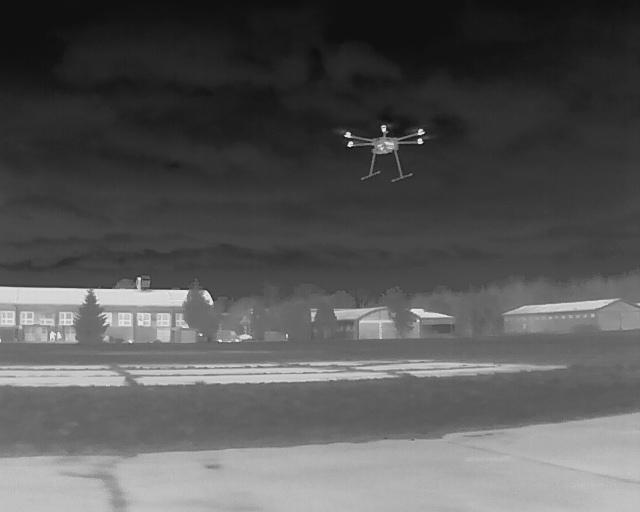drone: (332, 122, 436, 190)
